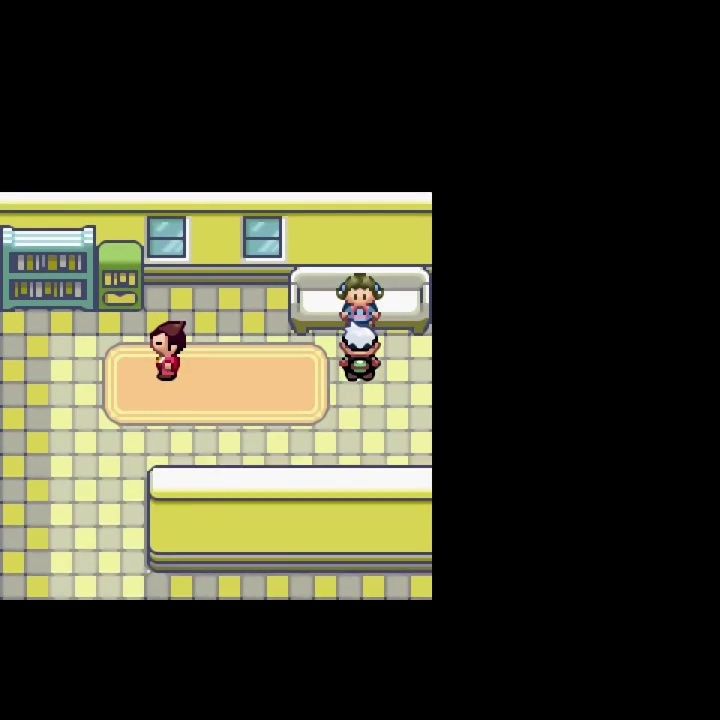agent: (337, 324, 384, 384)
npc: (335, 271, 386, 327), (147, 318, 189, 384)
